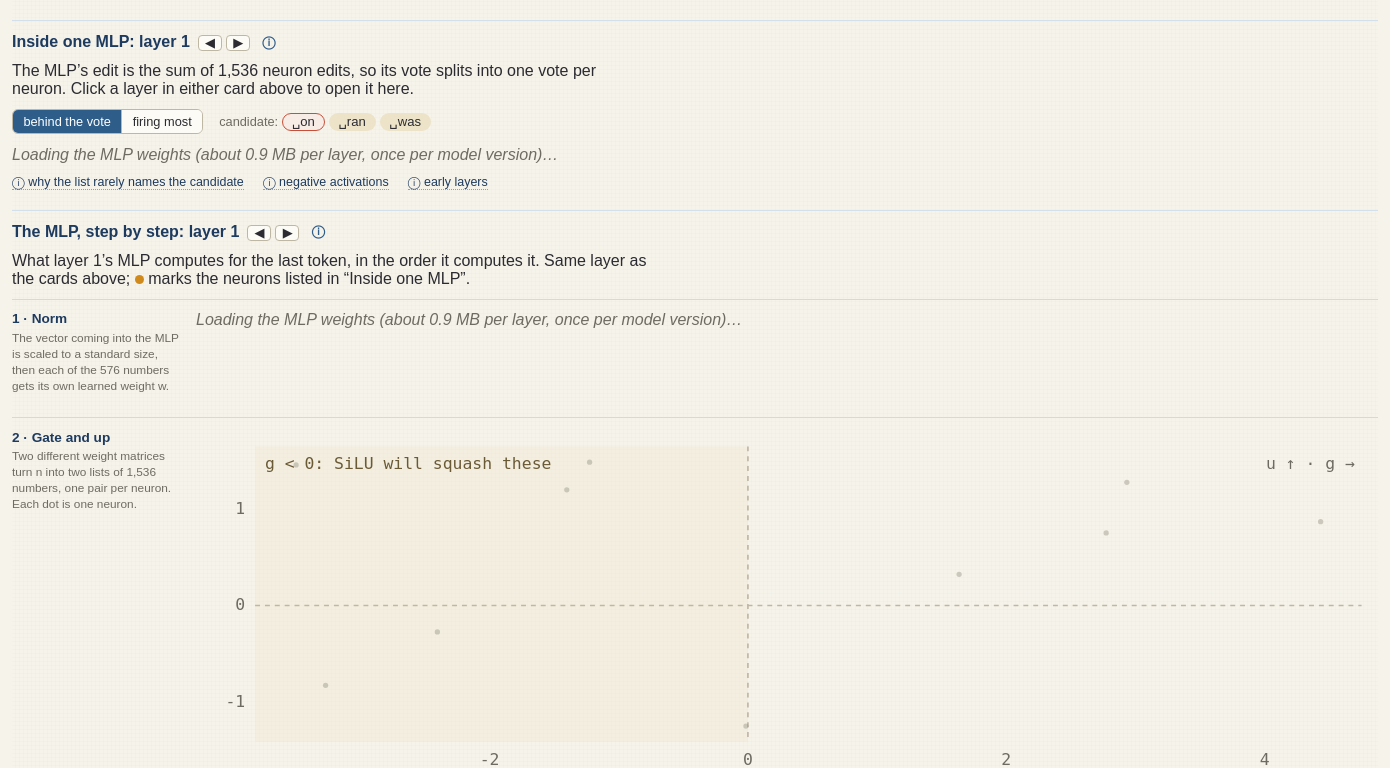
Test case: opens on the same layer as Inside one MLP and follows the shared stepper
Click the button with test id "steps-prev". click: click(259, 232)
box: [247,224,271,240]
(page scrolled)
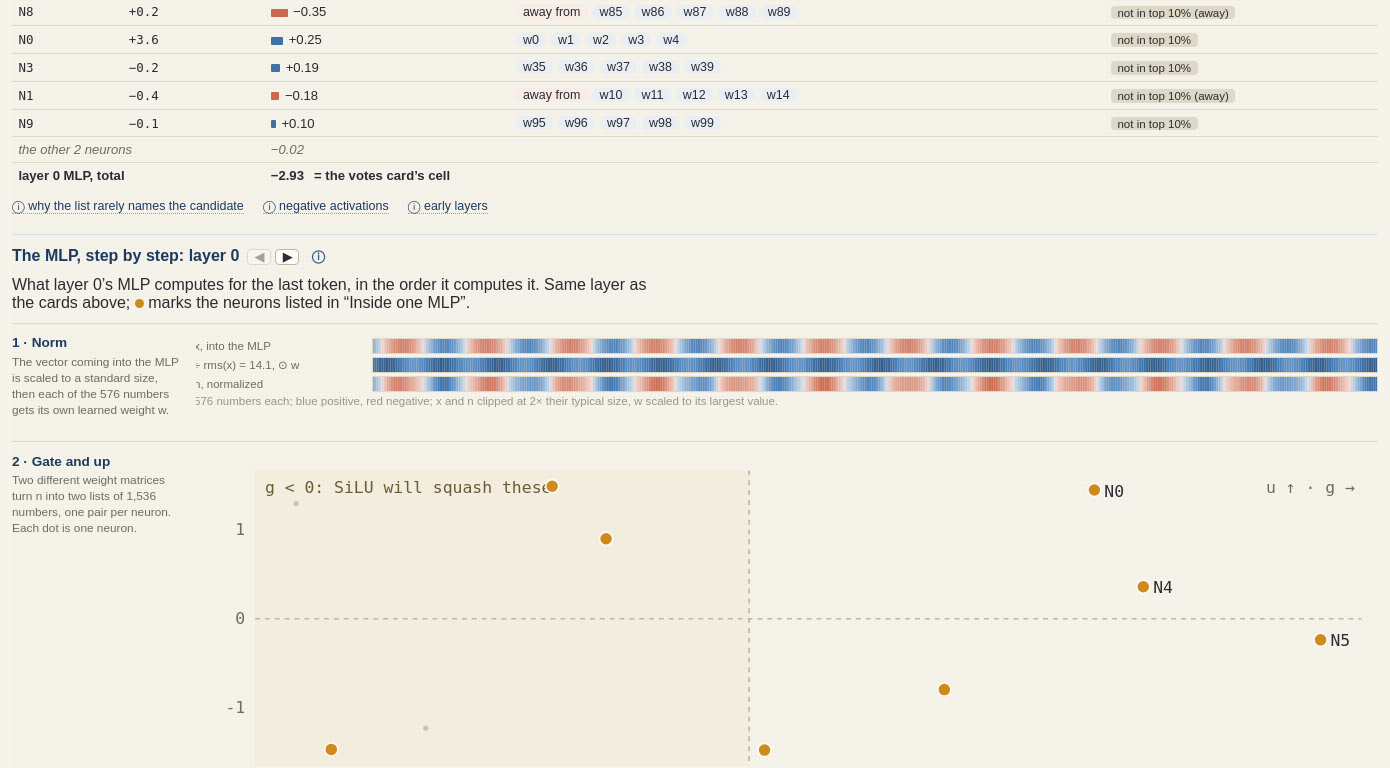
Result: the picture with test id "strip-n" is shown at [372,376,1378,392]
